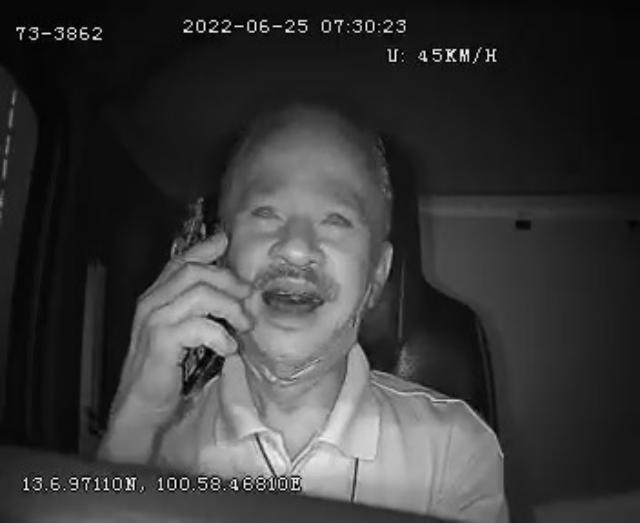PhoneUse: (166, 191, 234, 391)
SafeDriving: (310, 193, 362, 241), (244, 189, 288, 231)
